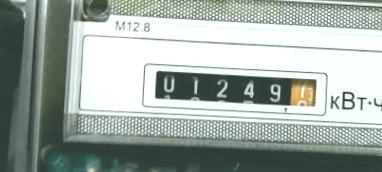0: (161, 72, 176, 93)
1: (188, 74, 201, 95)
2: (213, 76, 230, 99)
4: (242, 78, 256, 98)
7: (296, 77, 310, 98)
9: (267, 81, 282, 103)
screen: (138, 58, 331, 118)
